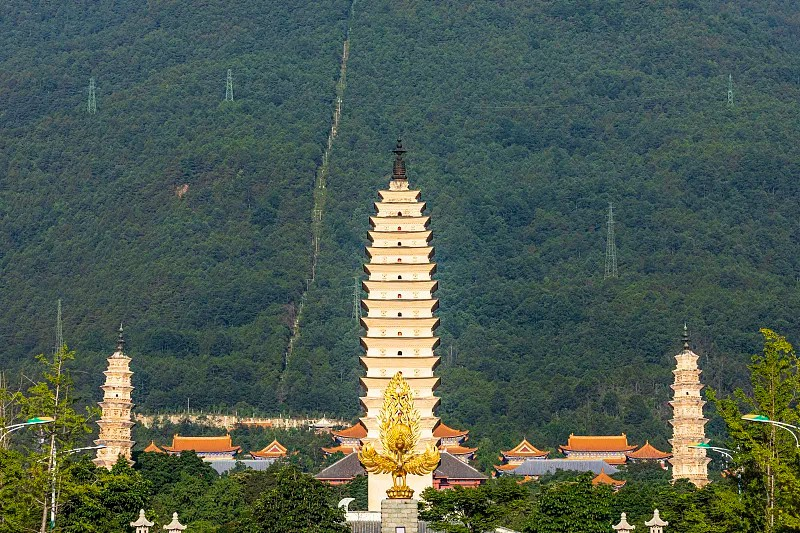ThreePagoda: (358, 137, 442, 513)
